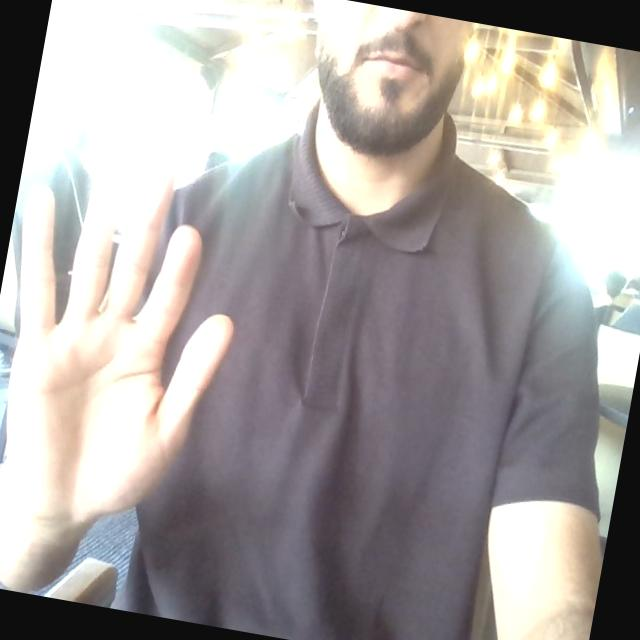Hand: (6, 183, 231, 524)
